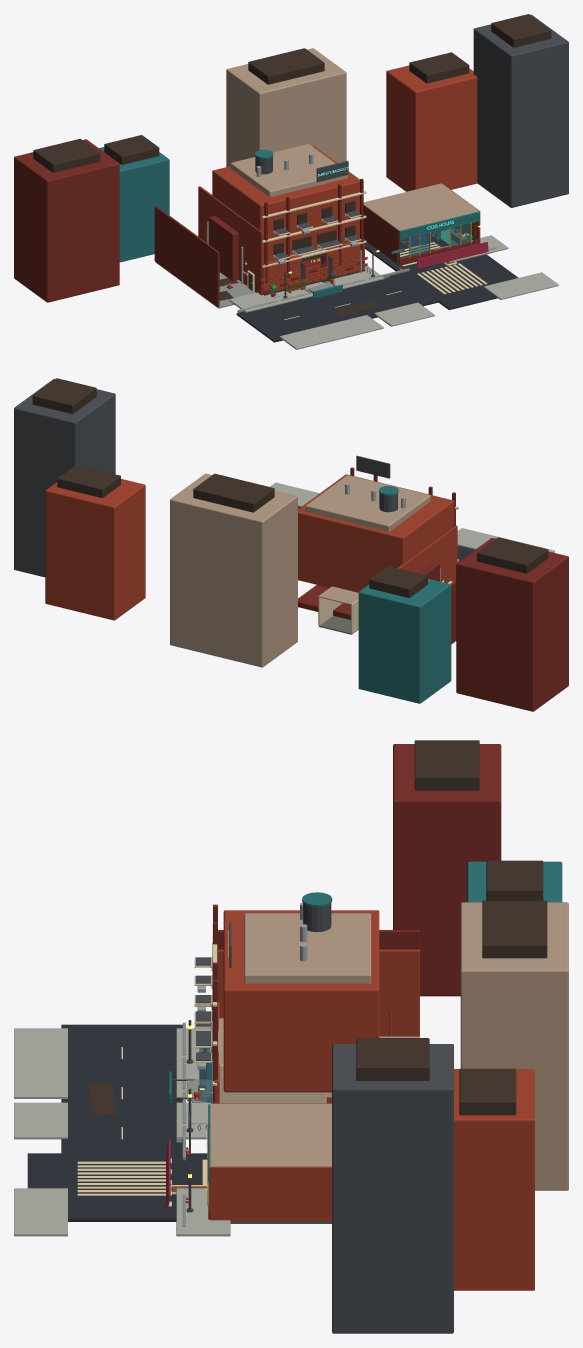
Rendered from infinite_backlot_block.glb.
3 renders of one model, top to bottom at view 1: azimuth 30°, elevation 25°; view 2: azimuth 150°, elevation 25°; view 3: azimuth 270°, elevation 25°, orthographic. The views are drawn at different scales.
Visible parts, largest first — view 1: Skyline_4, Skyline_0, Skyline_3, Skyline_2, RoadMain, Exterior_UpperMass, Skyline_1, AlleyWallNeighbor, RoadCross, StoreCeiling, Exterior_RoofSetback, AlleyWallBuilding (+19 smaller); view 2: Skyline_2, Skyline_0, Skyline_3, Skyline_4, Skyline_1, Exterior_UpperMass, Exterior_RoofSetback, SkylineRoof_2, SkylineRoof_0, AlleyWallBuilding, SkylineRoof_4, SkylineRoof_3 (+6 smaller); view 3: Skyline_4, Skyline_2, Skyline_0, Exterior_UpperMass, RoadMain, Skyline_3, Exterior_RoofSetback, StoreCeiling, StoreRightWall, RoadCross, AlleyWallBuilding, SkylineRoof_2 (+14 smaller).
Part boxes in pixels (x1=…): Skyline_4: x1=473, y1=14, x2=568, y2=207; Skyline_0: x1=14, y1=139, x2=119, y2=302; Skyline_3: x1=386, y1=65, x2=477, y2=191; Skyline_2: x1=226, y1=48, x2=346, y2=166; RoadMain: x1=236, y1=254, x2=518, y2=342; Exterior_UpperMass: x1=212, y1=146, x2=359, y2=263; Skyline_1: x1=99, y1=147, x2=169, y2=262; AlleyWallNeighbor: x1=154, y1=206, x2=219, y2=306; RoadCross: x1=365, y1=234, x2=499, y2=309; StoreCeiling: x1=363, y1=183, x2=479, y2=230; Exterior_RoofSetback: x1=230, y1=144, x2=347, y2=196; AlleyWallBuilding: x1=198, y1=186, x2=263, y2=295; Skyline_2: x1=170, y1=473, x2=297, y2=667; Skyline_0: x1=456, y1=538, x2=568, y2=711; Skyline_3: x1=45, y1=479, x2=145, y2=620; Skyline_4: x1=14, y1=378, x2=115, y2=577; Skyline_1: x1=358, y1=578, x2=451, y2=703; Exterior_UpperMass: x1=298, y1=474, x2=454, y2=592; Exterior_RoofSetback: x1=305, y1=475, x2=430, y2=531; SkylineRoof_2: x1=193, y1=473, x2=274, y2=512; SkylineRoof_0: x1=477, y1=537, x2=548, y2=573; AlleyWallBuilding: x1=397, y1=525, x2=457, y2=583; SkylineRoof_4: x1=32, y1=378, x2=96, y2=414; SkylineRoof_3: x1=57, y1=465, x2=120, y2=498; Skyline_4: x1=332, y1=1044, x2=453, y2=1333; Skyline_2: x1=460, y1=902, x2=568, y2=1190; Skyline_0: x1=393, y1=744, x2=501, y2=996; Exterior_UpperMass: x1=223, y1=910, x2=379, y2=1092; RoadMain: x1=61, y1=1024, x2=182, y2=1221; Skyline_3: x1=454, y1=1069, x2=534, y2=1290; Exterior_RoofSetback: x1=244, y1=913, x2=371, y2=983; StoreCeiling: x1=210, y1=1103, x2=331, y2=1166; StoreRightWall: x1=210, y1=1166, x2=331, y2=1222; RoadCross: x1=27, y1=1153, x2=207, y2=1204; AlleyWallBuilding: x1=218, y1=949, x2=419, y2=1036; SkylineRoof_2: x1=482, y1=900, x2=547, y2=958.
Size of what is drawn, in the model's own units: 69 by 21.1 by 41.
